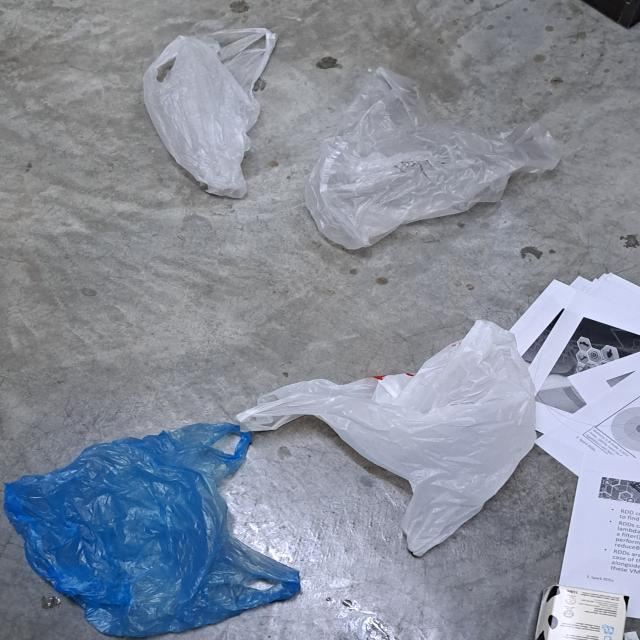drink carton: (530, 583, 630, 640)
paper: (508, 272, 640, 586)
plastic bag: (239, 316, 534, 559), (8, 418, 299, 640), (303, 66, 556, 251), (142, 27, 276, 199)
